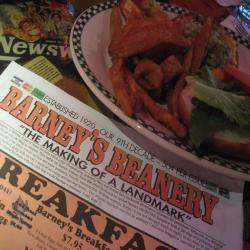salad: (189, 73, 248, 140)
